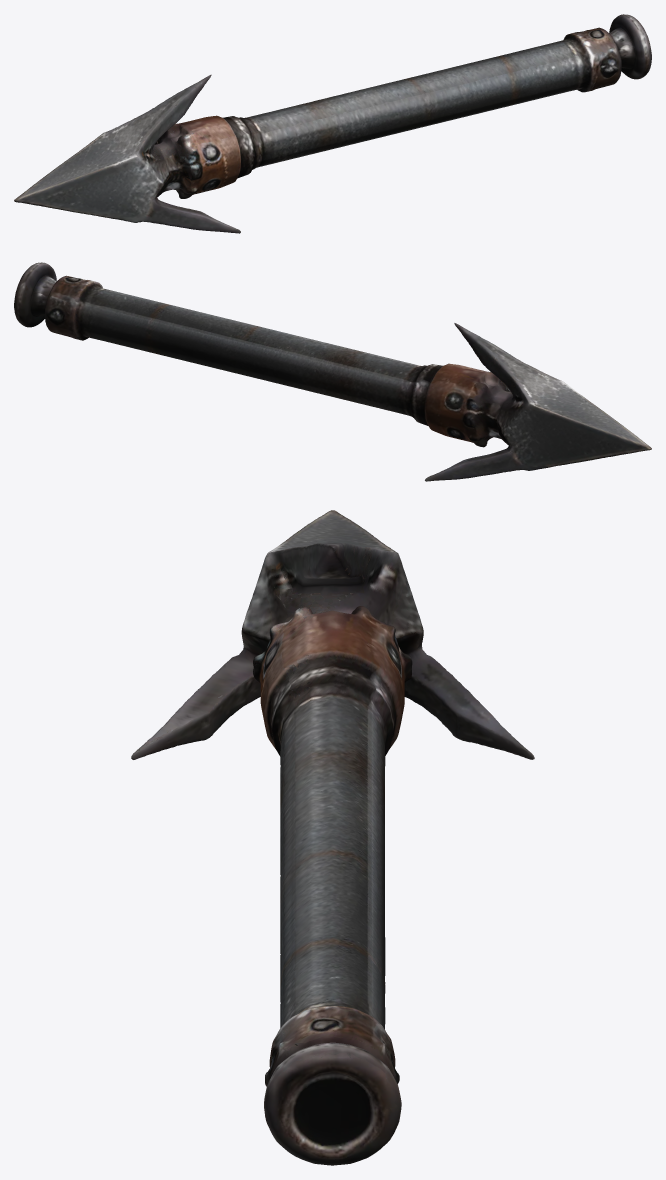
Rendered from arponero_arpon.glb.
The picture shows the model from 3 angles, top to bottom: view 1: azimuth 30°, elevation 25°; view 2: azimuth 150°, elevation 25°; view 3: azimuth 270°, elevation 25°; orthographic projection. The views are drawn at different scales.
Visible parts, largest first — view 1: input; view 2: input; view 3: input.
Part boxes in pixels (x1=…): input: x1=14, y1=14, x2=651, y2=233; input: x1=14, y1=262, x2=651, y2=481; input: x1=131, y1=510, x2=534, y2=1165.
Bounding box in the file's own units: 0.75 × 0.1791 × 0.2103.
Materials: 1 (1 with a texture image).
